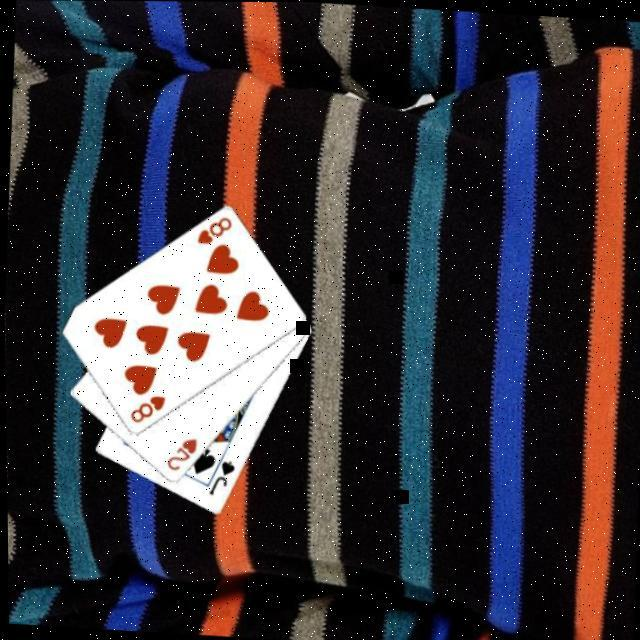2H: (160, 434, 198, 476)
8H: (125, 392, 167, 429), (191, 213, 233, 249)
JS: (203, 458, 236, 500)
